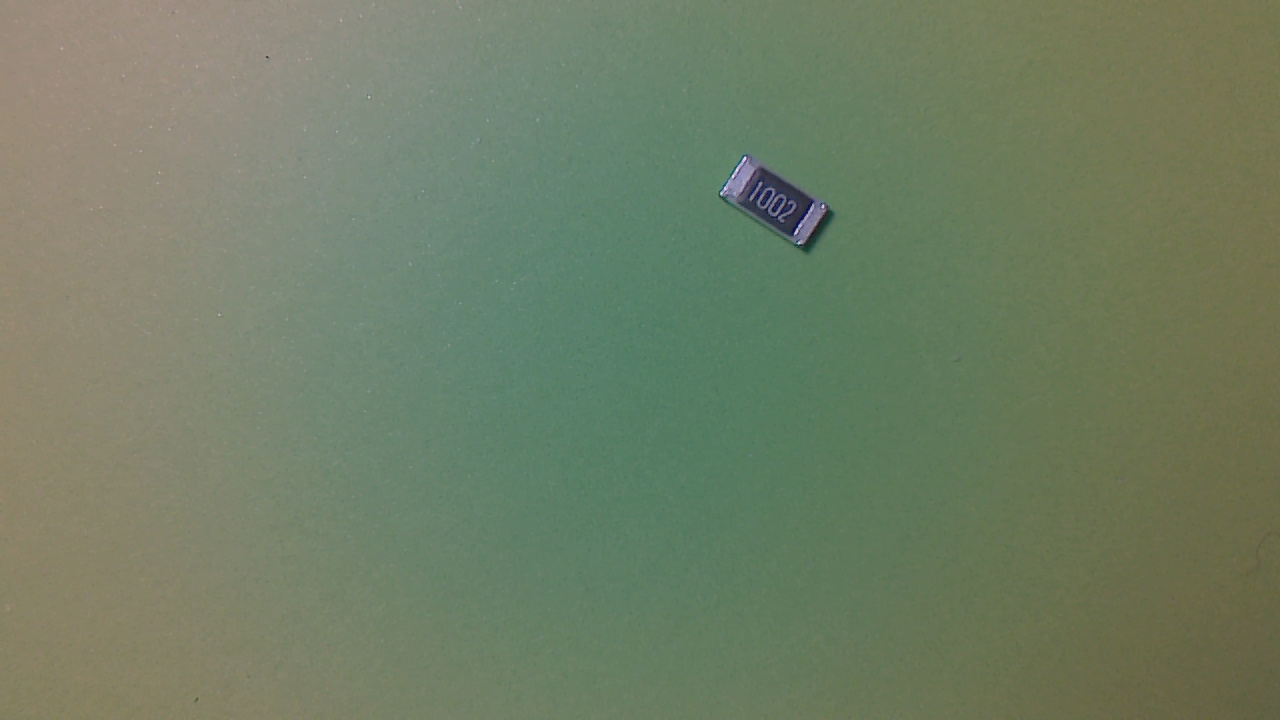Resistor: (719, 155, 842, 264)
